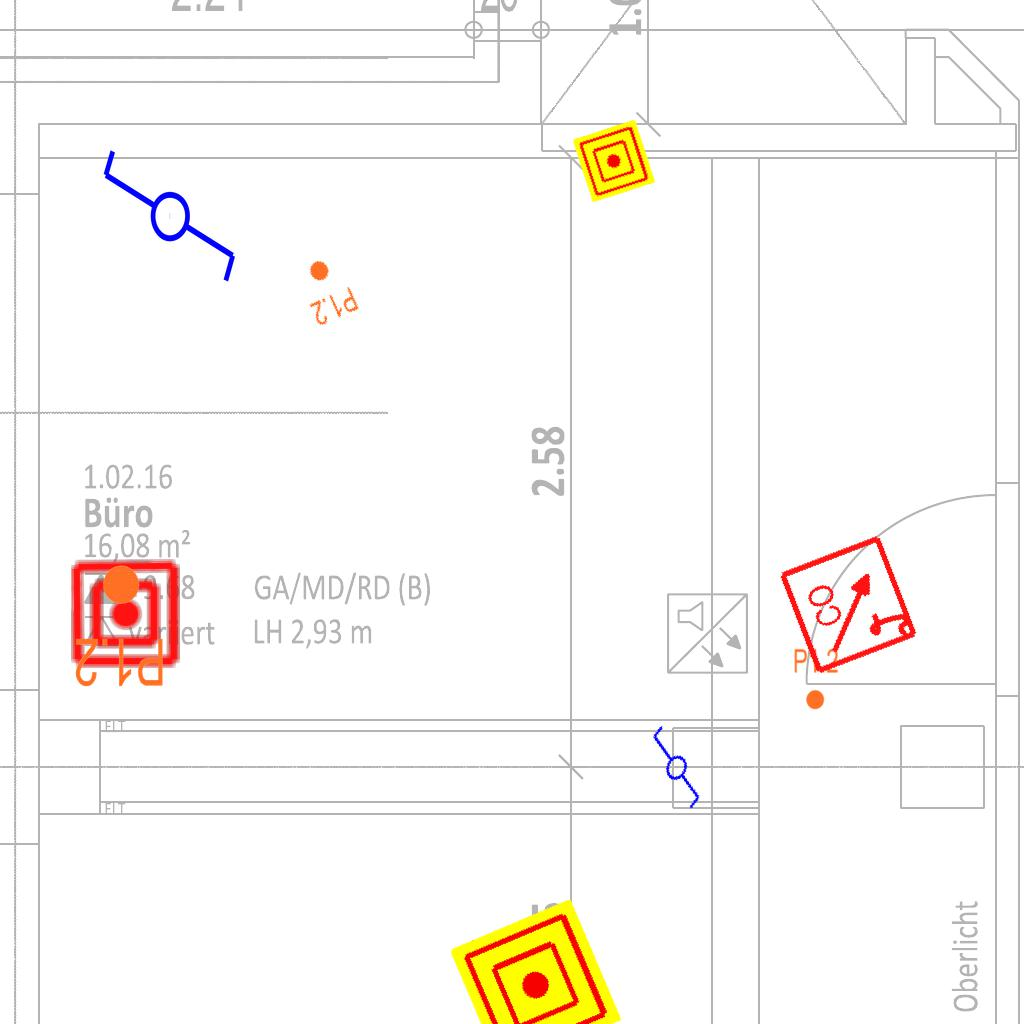Downlight_LED_Einbauleuchten_Flur: (73, 562, 166, 690), (292, 251, 362, 329), (793, 647, 839, 711)
NAM-Nichtautomatischer_Melder: (449, 898, 623, 1024), (69, 557, 182, 670), (572, 119, 656, 203)
ROA_Rauchmelder_optisch_mit_Signalgeber_(Sockelsirene): (776, 530, 923, 677)
Wechselschalter: (96, 146, 240, 303), (626, 721, 722, 821)
